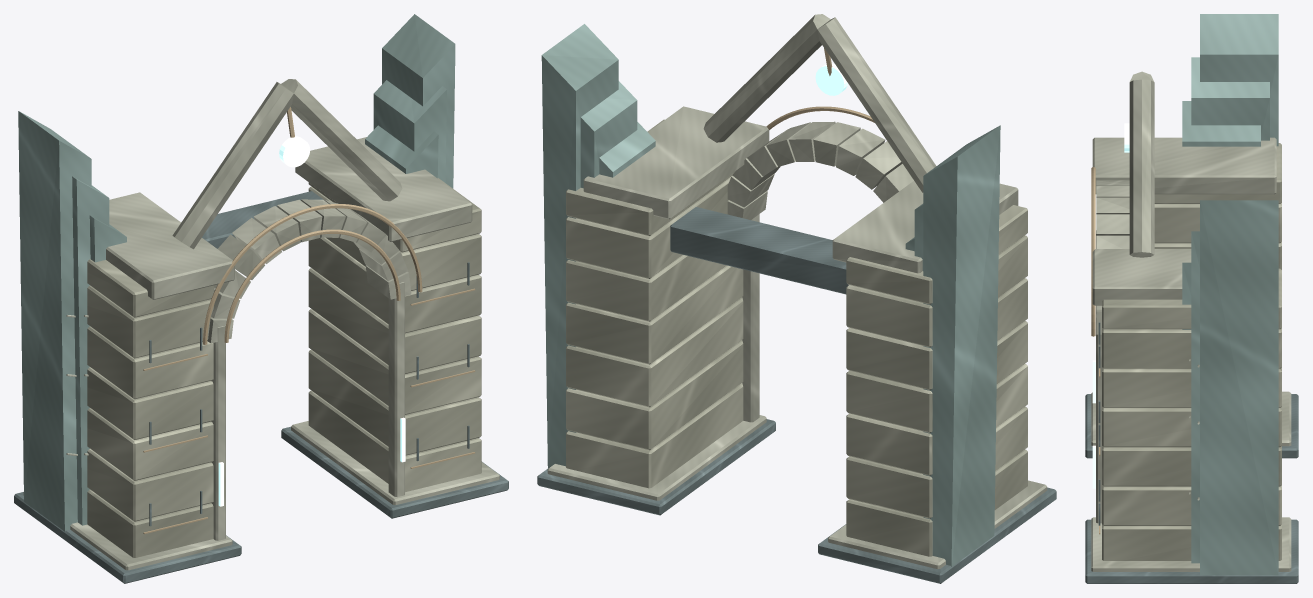
Rendered from portal-water-v01.glb.
3 views of the same model, side by side, from view 1: azimuth 30°, elevation 25°; view 2: azimuth 150°, elevation 25°; view 3: azimuth 270°, elevation 25° (orthographic). The views are drawn at different scales.
Visible parts, largest first — view 1: water_Mumu_ivory_limestone, water_Mumu_chisel_edges, water_Mumu_layered_glacier, water_Mumu_blue_slate, water_Mumu_satin_brass, water_Mumu_water_light; view 2: water_Mumu_ivory_limestone, water_Mumu_layered_glacier, water_Mumu_chisel_edges, water_Mumu_blue_slate, water_Mumu_water_light, water_Mumu_satin_brass; view 3: water_Mumu_layered_glacier, water_Mumu_ivory_limestone, water_Mumu_chisel_edges, water_Mumu_blue_slate, water_Mumu_satin_brass, water_Mumu_water_light.
Part boxes in pixels (x1,y1,x2,y2): water_Mumu_ivory_limestone: (87, 178, 481, 557); water_Mumu_chisel_edges: (23, 79, 499, 570); water_Mumu_layered_glacier: (18, 14, 455, 531); water_Mumu_blue_slate: (14, 191, 508, 583); water_Mumu_satin_brass: (143, 107, 475, 534); water_Mumu_water_light: (218, 136, 405, 506); water_Mumu_ivory_limestone: (566, 119, 1027, 556); water_Mumu_layered_glacier: (541, 24, 1000, 566); water_Mumu_chisel_edges: (547, 14, 1047, 569); water_Mumu_blue_slate: (537, 207, 1056, 583); water_Mumu_water_light: (815, 63, 847, 95); water_Mumu_satin_brass: (766, 48, 874, 129); water_Mumu_layered_glacier: (1182, 14, 1278, 575); water_Mumu_ivory_limestone: (1102, 143, 1281, 560); water_Mumu_chisel_edges: (1091, 71, 1291, 571); water_Mumu_blue_slate: (1085, 322, 1298, 583); water_Mumu_satin_brass: (1091, 167, 1100, 534); water_Mumu_water_light: (1092, 123, 1129, 488).
Bounding box in the file's own units: 6.2 × 6.5 × 3.
6 materials, 4 textured.
